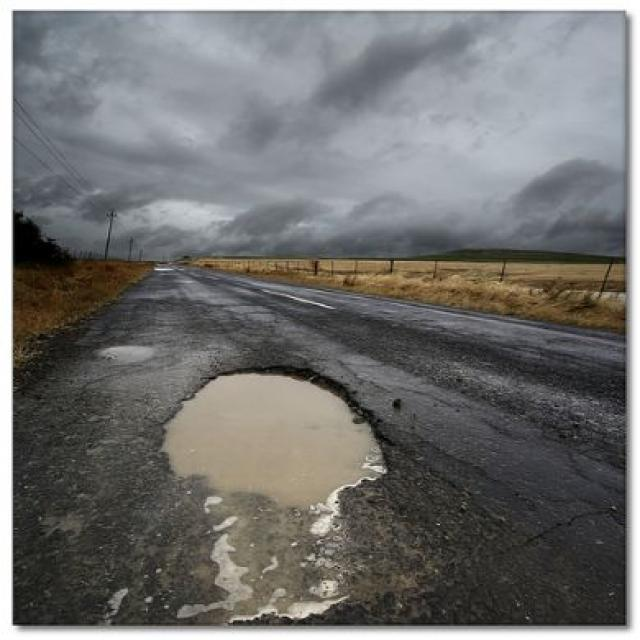Pothole: (152, 358, 395, 512)
